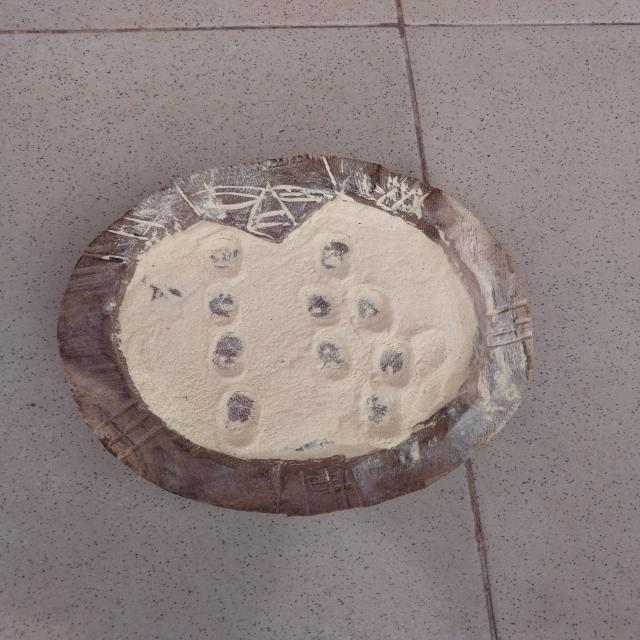double: (306, 334, 426, 386), (294, 284, 396, 332)
single: (213, 386, 273, 450), (354, 388, 407, 443), (194, 231, 248, 282), (204, 329, 254, 383), (311, 231, 361, 285), (198, 284, 246, 329)
